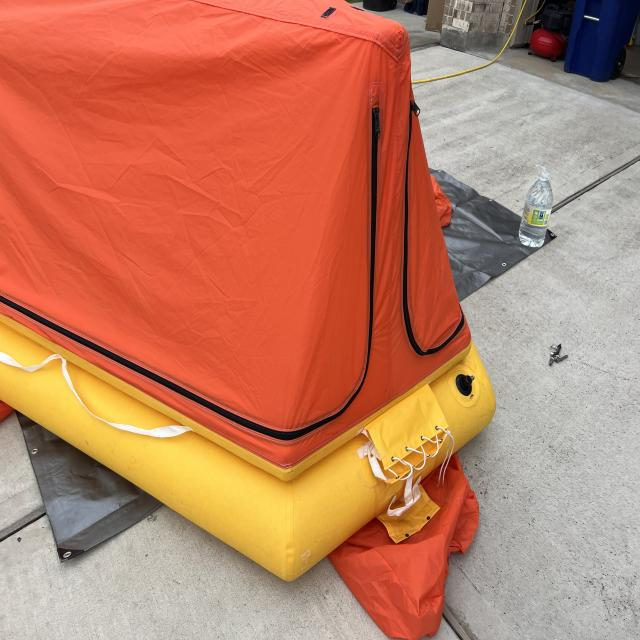Multi-person_life_raft: (0, 1, 497, 639)
